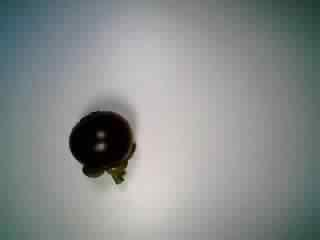mangosteen: (62, 104, 143, 189)
